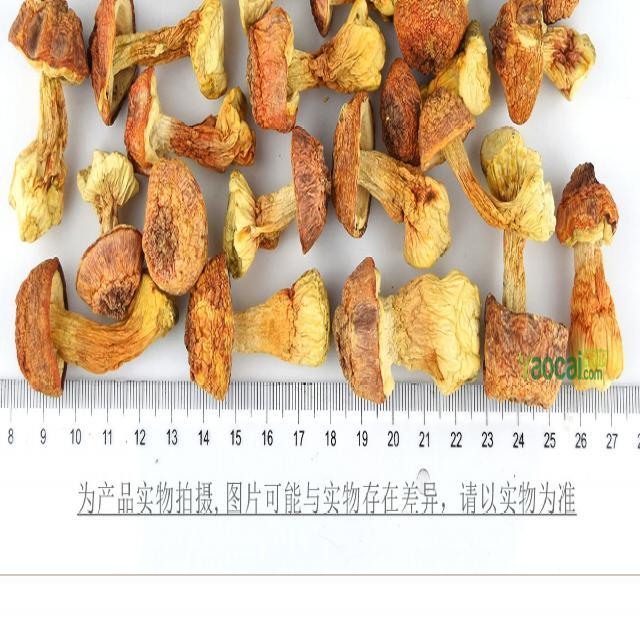Agaricus blazei Murill: (484, 128, 568, 406), (19, 264, 176, 398), (336, 257, 478, 395), (338, 90, 451, 261), (190, 259, 335, 392), (560, 158, 634, 395), (13, 3, 86, 240), (244, 10, 387, 129), (88, 1, 230, 110), (227, 129, 329, 267), (124, 69, 252, 175), (76, 152, 143, 320)
